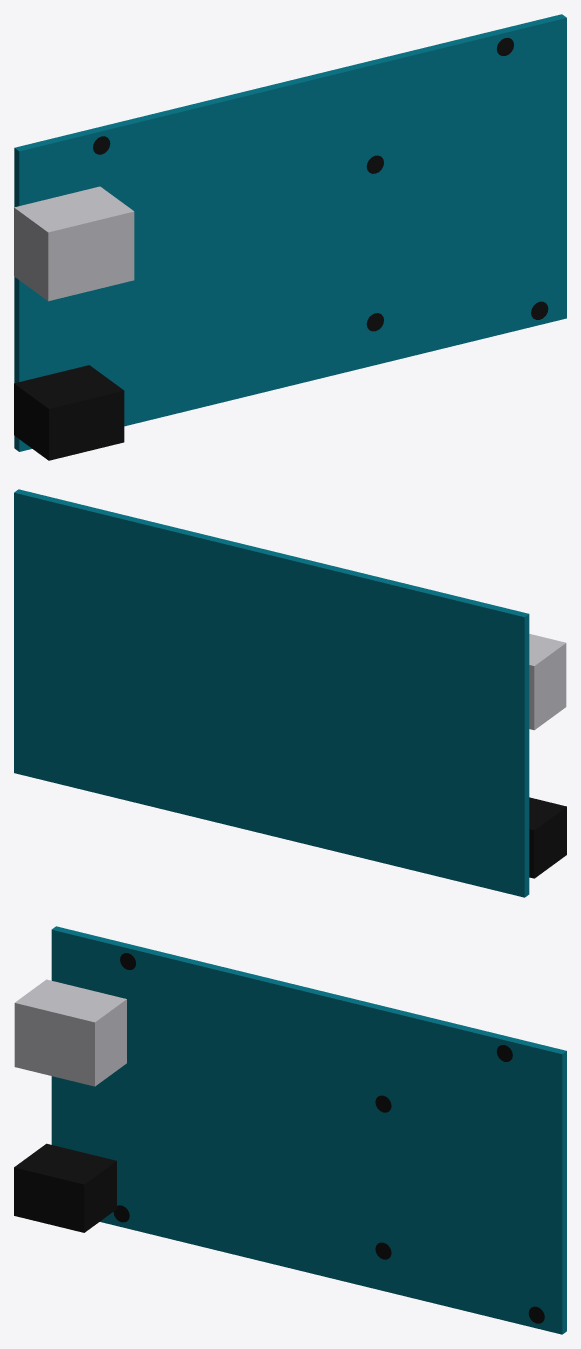
Rendered from mod-mega.glb.
3 views of the same model, one above another, from view 1: azimuth 30°, elevation 25°; view 2: azimuth 150°, elevation 25°; view 3: azimuth 330°, elevation 25° (orthographic). The views are drawn at different scales.
Visible parts, largest first — view 1: PCB-ARDUINO, MET-PORT, PORT; view 2: PCB-ARDUINO, MET-PORT, PORT; view 3: PCB-ARDUINO, MET-PORT, PORT.
Boxes of the visible parts, bbox=[...] form: PCB-ARDUINO: bbox=[14, 14, 566, 451]; MET-PORT: bbox=[14, 186, 134, 301]; PORT: bbox=[14, 365, 124, 460]; PCB-ARDUINO: bbox=[14, 489, 529, 897]; MET-PORT: bbox=[529, 634, 566, 730]; PORT: bbox=[529, 797, 566, 878]; PCB-ARDUINO: bbox=[51, 926, 566, 1334]; MET-PORT: bbox=[14, 979, 126, 1086]; PORT: bbox=[14, 1143, 116, 1232].
Bounding box in the file's own units: 103 × 53.3 × 12.8.
